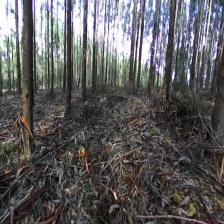trunk: (22, 3, 34, 148), (163, 3, 177, 97), (147, 18, 157, 96), (66, 6, 72, 115), (82, 0, 88, 102), (136, 18, 144, 88), (16, 24, 20, 94), (50, 26, 54, 93)
